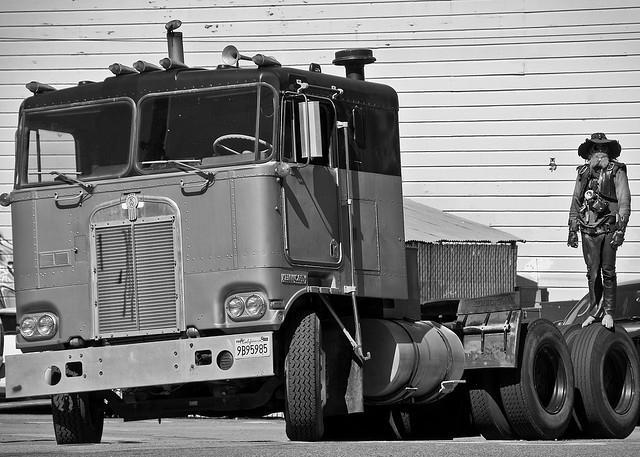truck: (4, 20, 640, 444)
